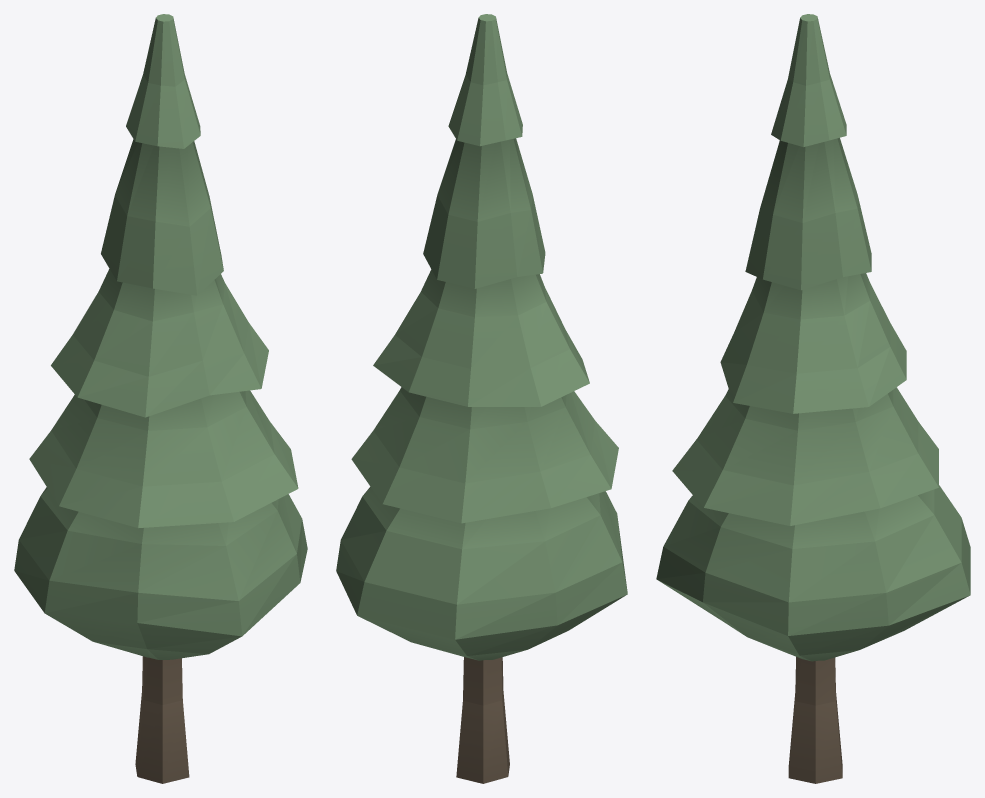
File: shrub.glb
3 views of the same model, side by side, from view 1: azimuth 30°, elevation 25°; view 2: azimuth 150°, elevation 25°; view 3: azimuth 270°, elevation 25° (orthographic).
Parts seen in each view (by area): view 1: shrub; view 2: shrub; view 3: shrub.
Part boxes in pixels (bbox=[...]): shrub: bbox=[14, 14, 307, 783]; shrub: bbox=[336, 14, 627, 783]; shrub: bbox=[656, 14, 970, 783].
Bounding box in the file's own units: 0.8745 × 2.4 × 0.9076.
